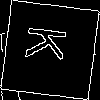K: (25, 24, 77, 63)
